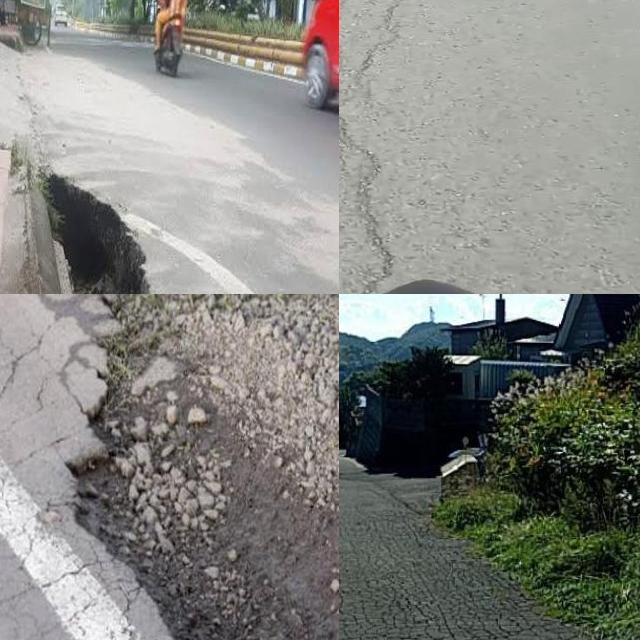Pinggir: (66, 300, 339, 640), (0, 125, 195, 294)
Retak Buaya: (339, 530, 587, 640)
